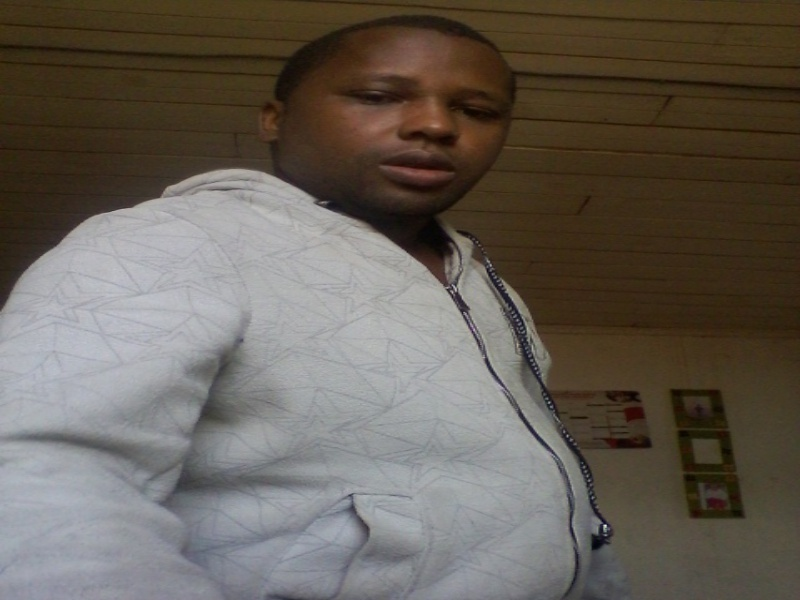TsisyArotava: (255, 8, 521, 242)
